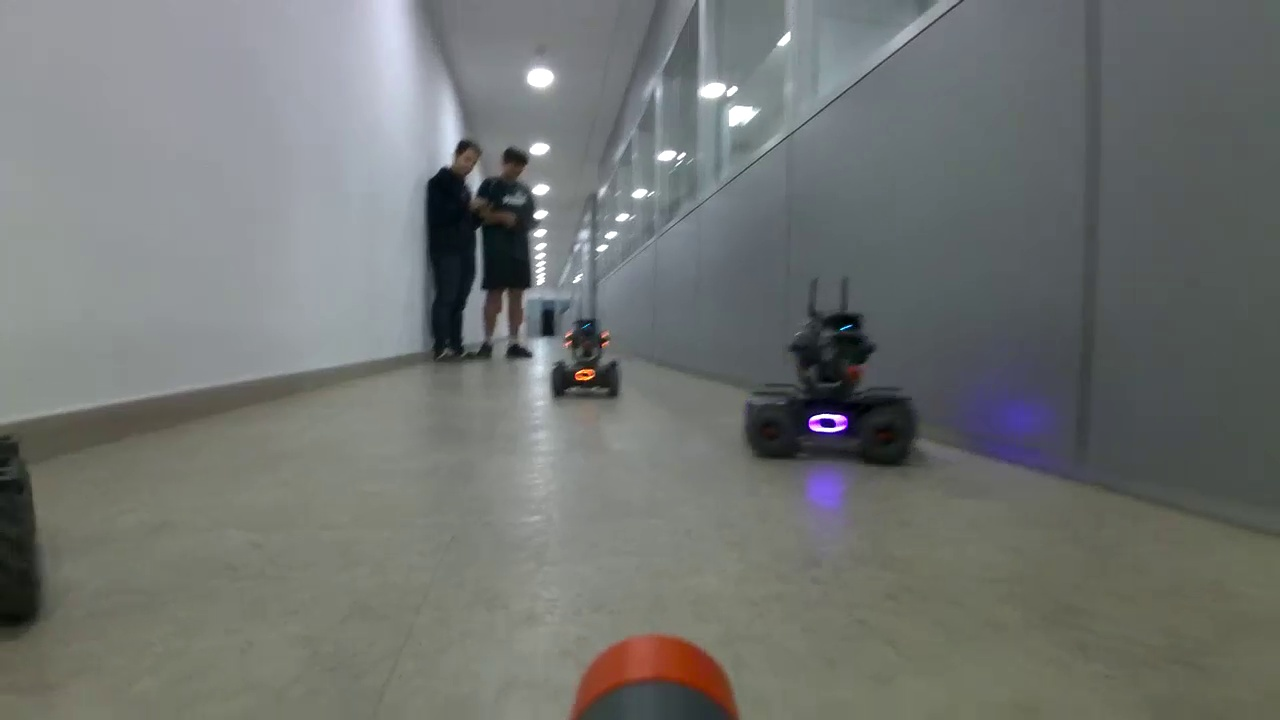robot: (745, 310, 919, 467), (549, 319, 621, 398)
